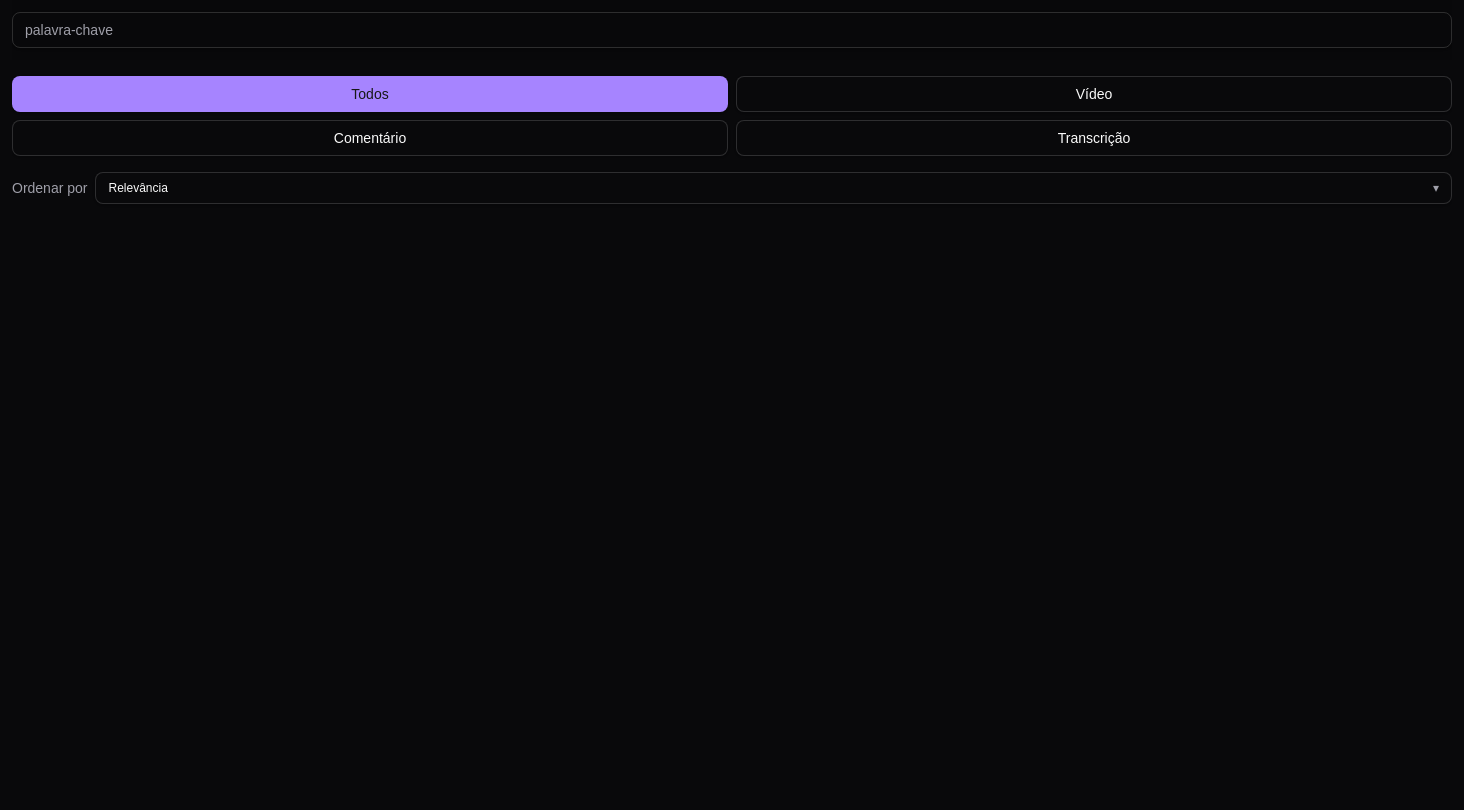
Test: SearchView › busca por palavra-chave e mostra resultados de todos os tipos
Type "vídeo" into the search field named "Buscar" at (732, 30), box [12,12,1452,48]
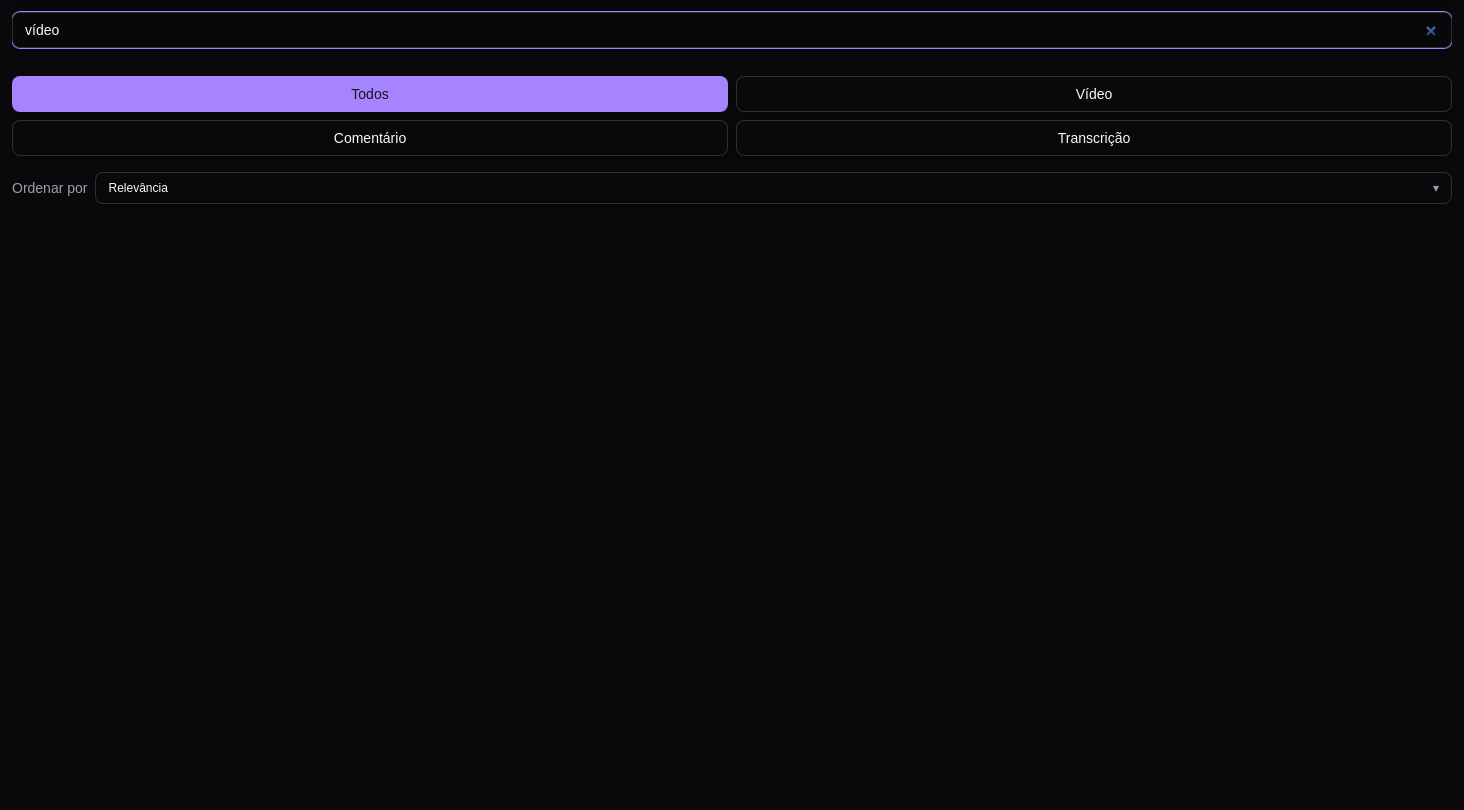
Press Enter in the search field named "Buscar", box [12,12,1452,48]
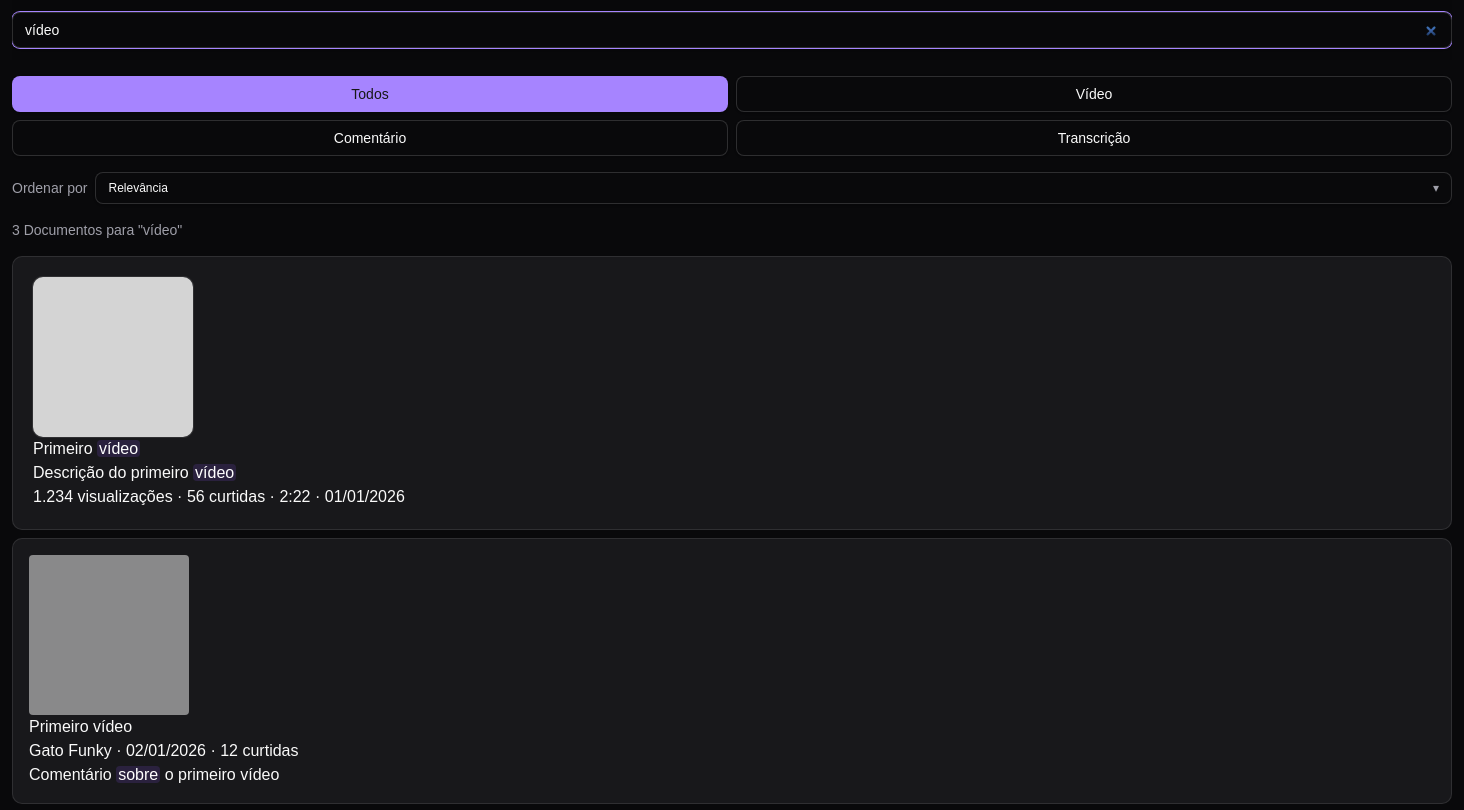
Expected: the number of links "Primeiro vídeo" is 3
Expected: the text "Gato Funky · 02/01/2026 · 12 curtidas" is shown, [29,742,298,759]
Expected: the text "3 Documentos para \"vídeo\"" is shown, [12,222,182,238]
